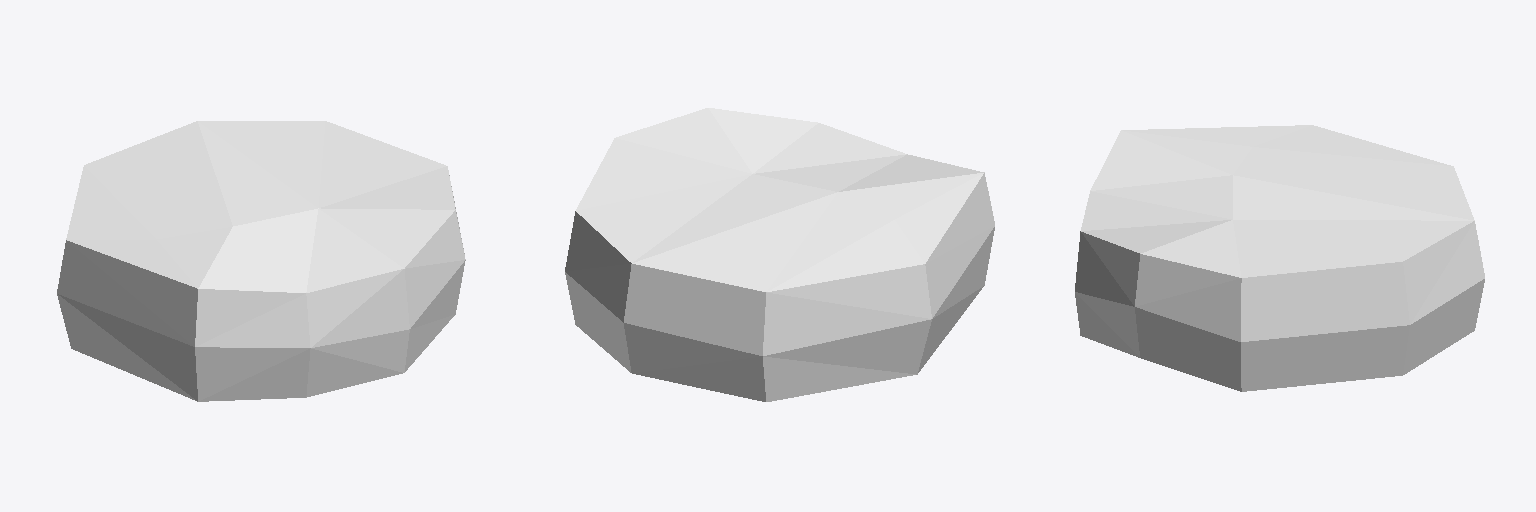
Rendered from iceberg1.obj.
The picture shows the model from 3 angles: view 1: azimuth 30°, elevation 25°; view 2: azimuth 150°, elevation 25°; view 3: azimuth 270°, elevation 25°; orthographic projection.
Size of the model in its own units: 4.11 by 1.42 by 4.03.